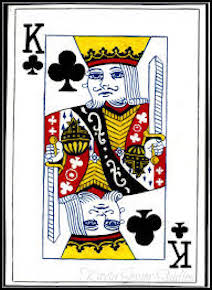KingOfClubs: (11, 6, 203, 283)
